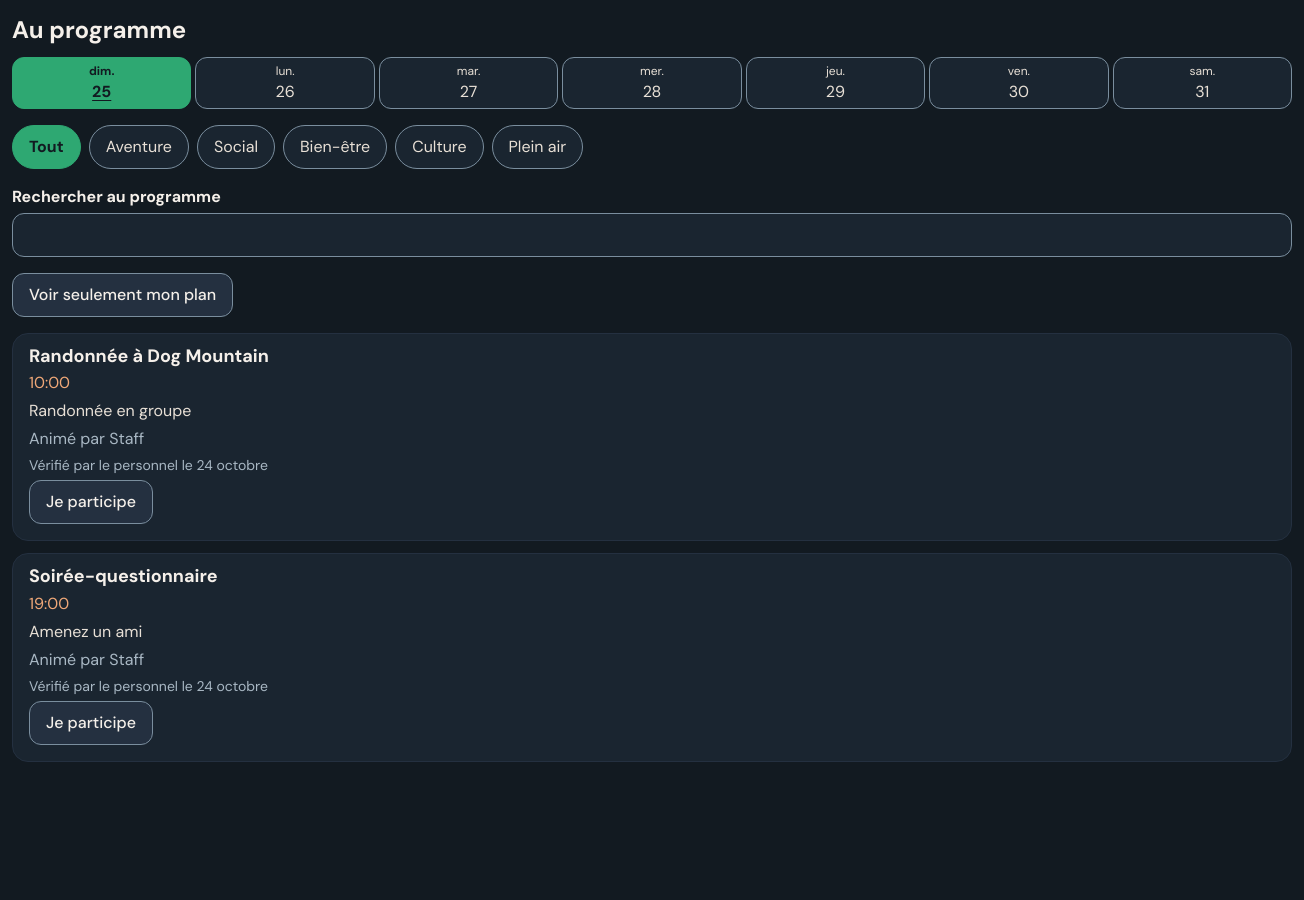
it: What's On › searches the text the guest reads, ignoring case and accents, in French when the guest reads French
Expected: the label "Rechercher au programme" is shown, left=12, top=186, right=221, bottom=207
Type "RANDONNEE" into the search field labelled "Rechercher au programme". click: (652,235)
box: left=12, top=213, right=1292, bottom=257
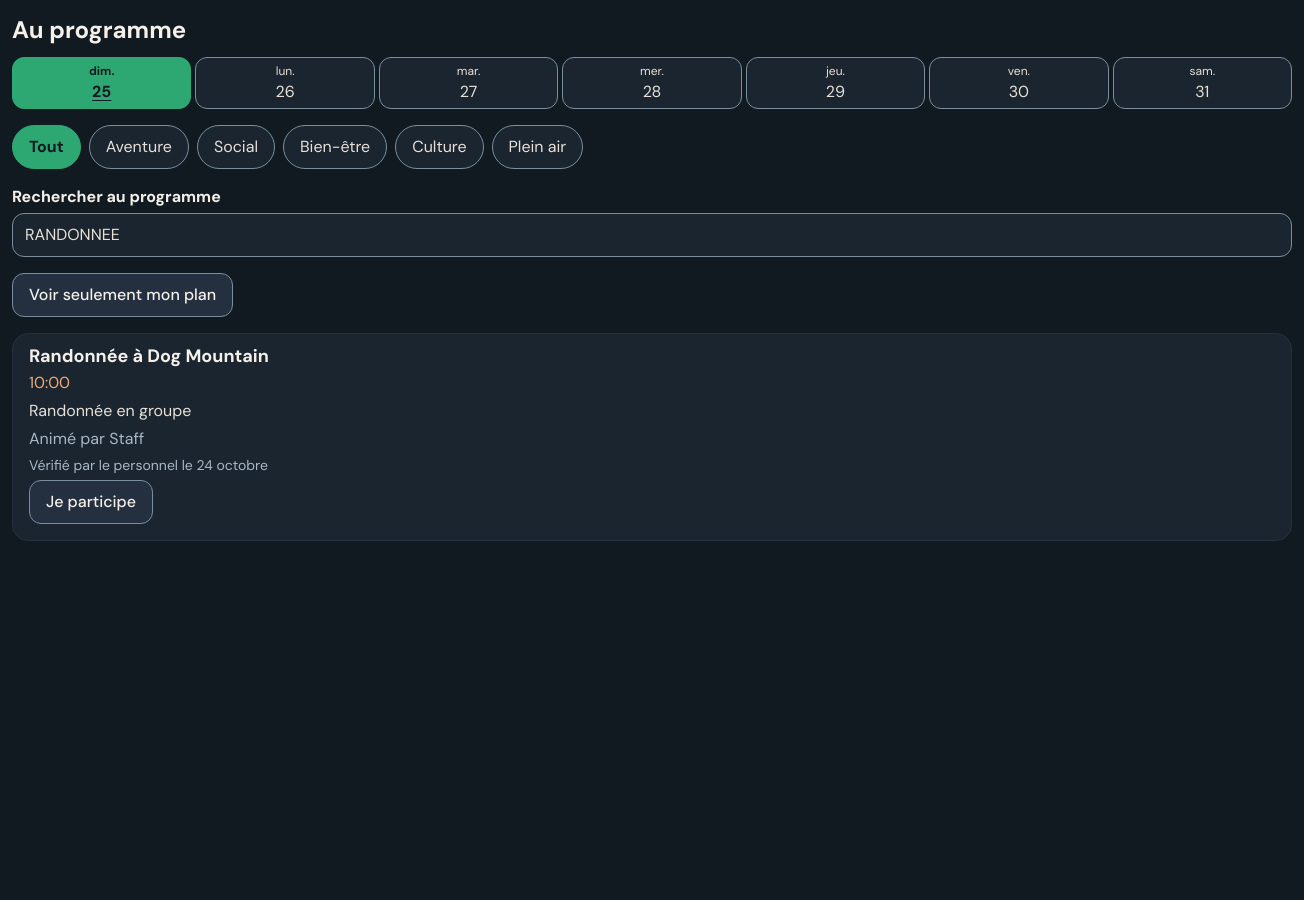
Replace the text in the search field labelled "Rechercher au programme" with "trivia". click: (652,235)
box: left=12, top=213, right=1292, bottom=257
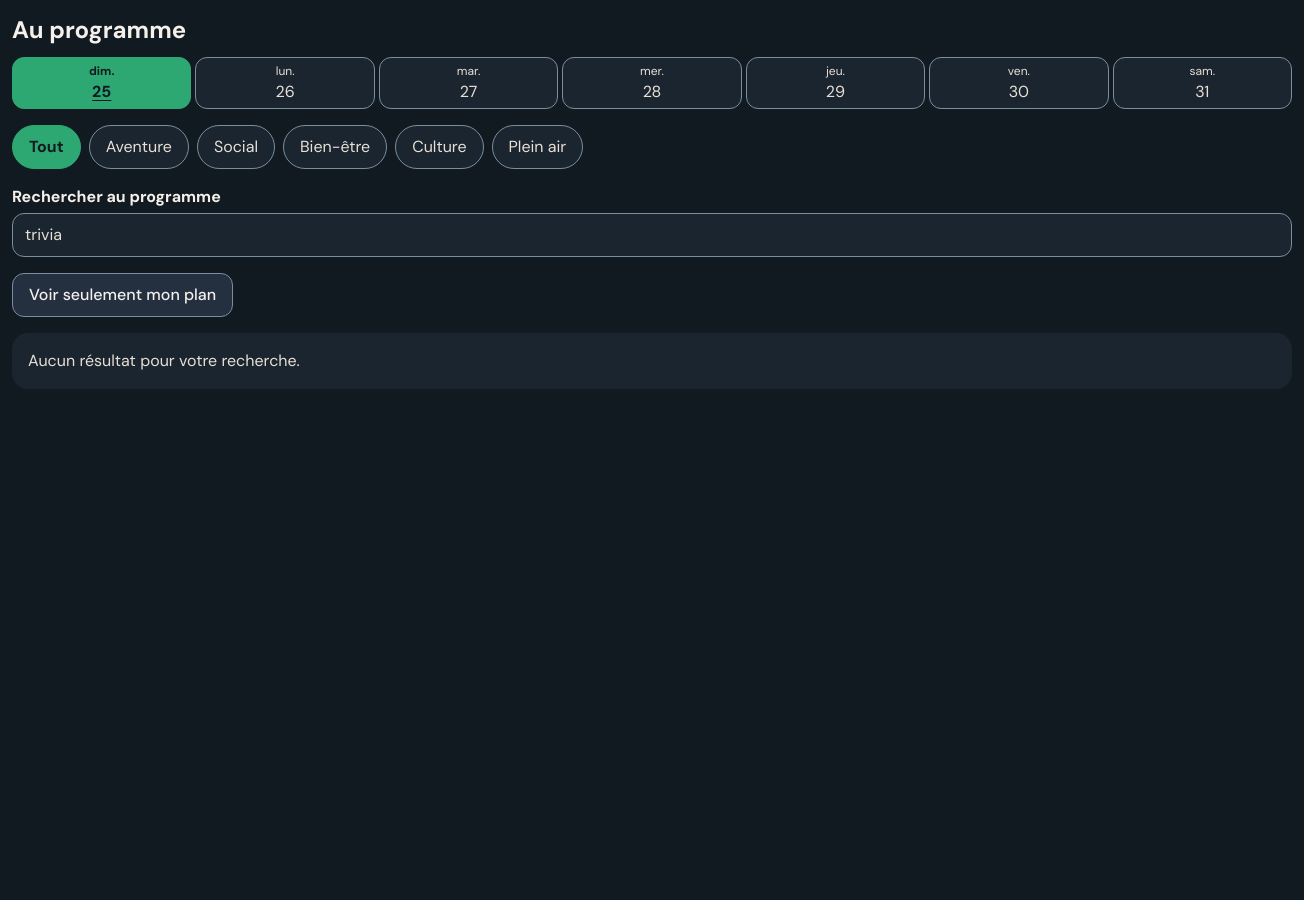
Expected: the text "Aucun résultat" is shown, left=28, top=350, right=300, bottom=371
